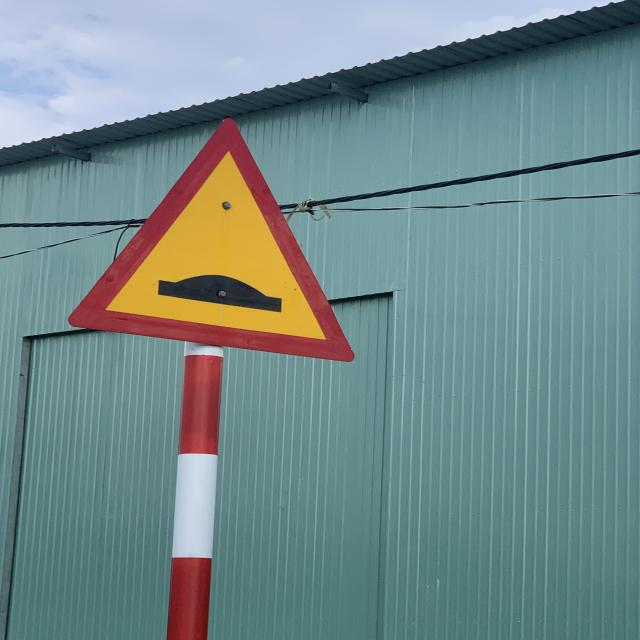Duong_Cong_Ben_Phai: (66, 117, 356, 364)
